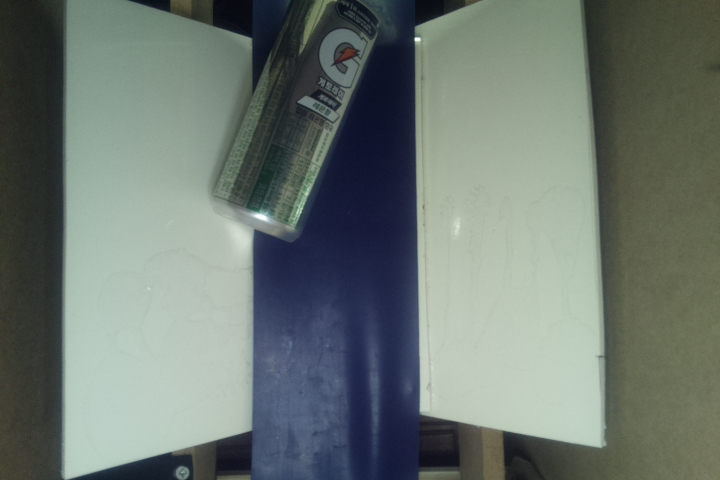can: (209, 1, 390, 252)
